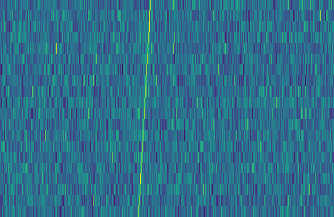signal: (133, 0, 154, 217)
